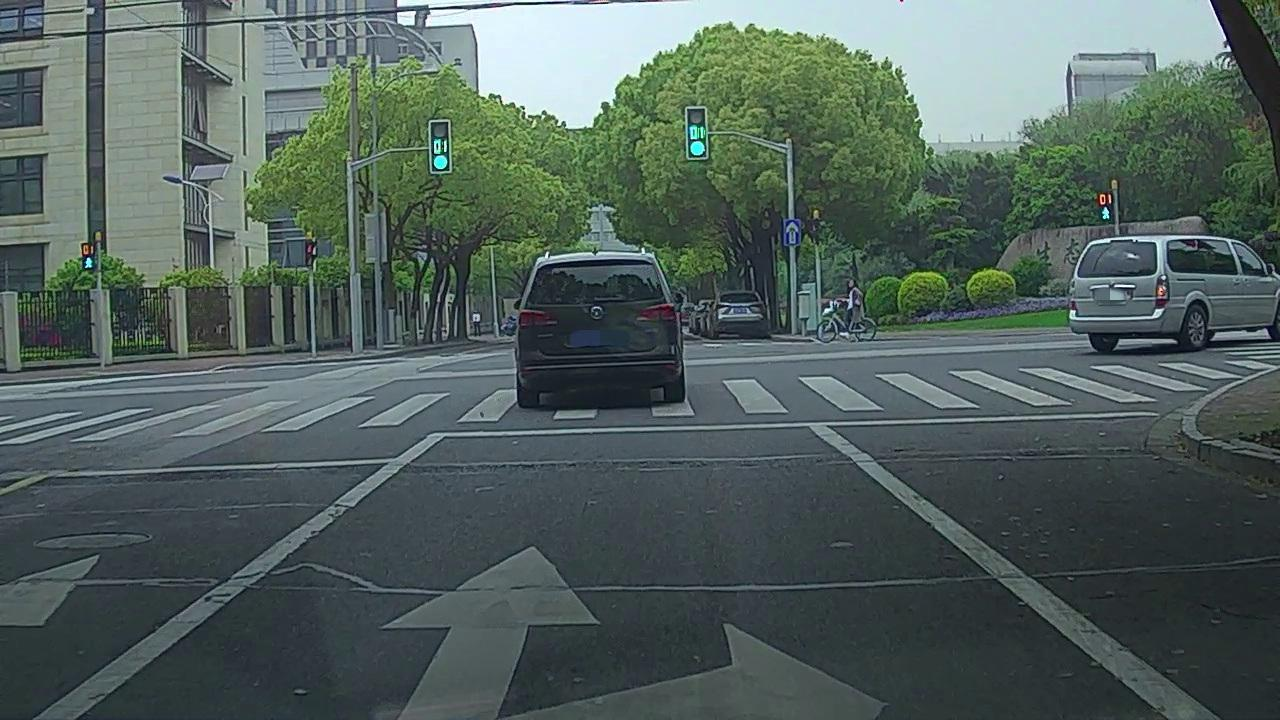traffic_light: (431, 122, 452, 172), (688, 109, 709, 158)
